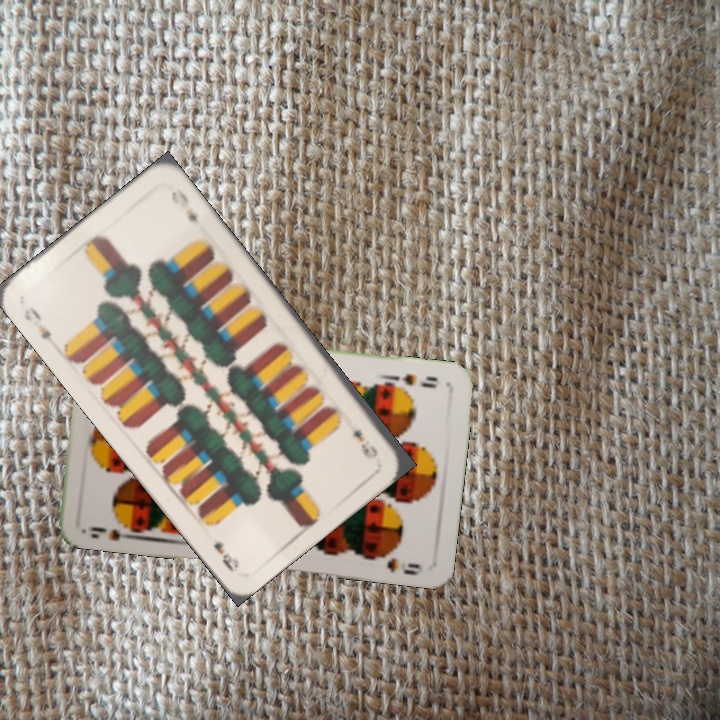E9: (20, 302, 59, 349), (348, 425, 381, 461)
S9: (80, 517, 140, 543), (389, 370, 440, 391)
